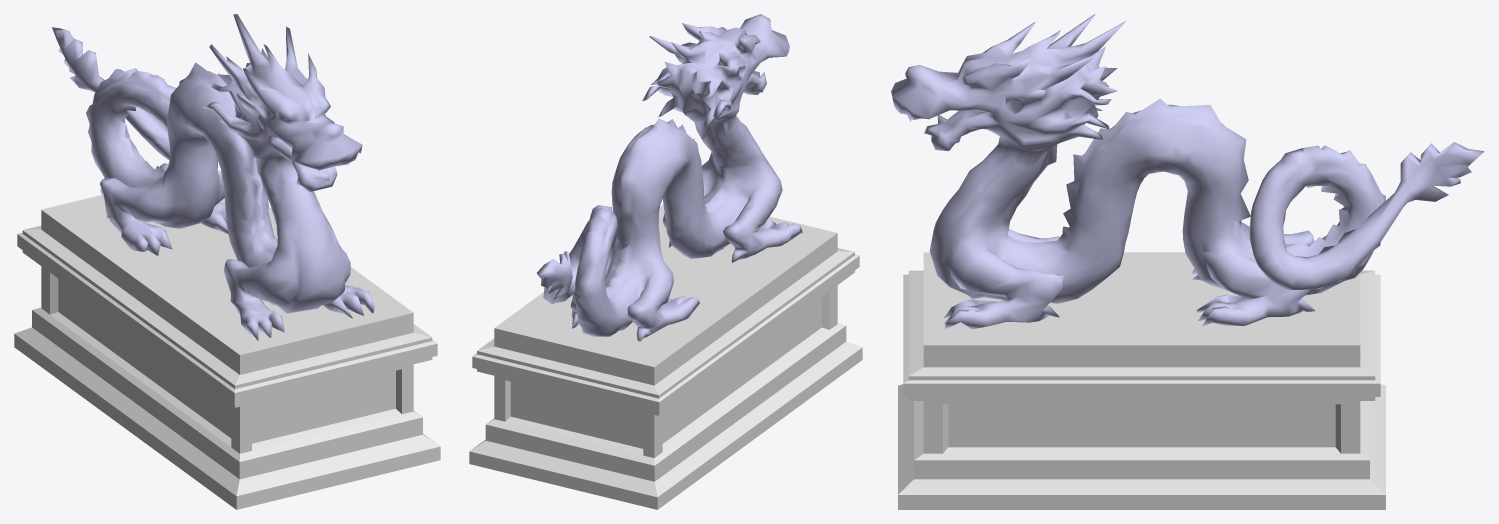
The model's file is DF_JP_Dragon_01.fbx.
3 renders of one model, left to right at view 1: azimuth 30°, elevation 25°; view 2: azimuth 150°, elevation 25°; view 3: azimuth 270°, elevation 25°, orthographic. The views are drawn at different scales.
Visible parts, largest first — view 1: DF_JP_Dragon_01_LOD0; view 2: DF_JP_Dragon_01_LOD0; view 3: DF_JP_Dragon_01_LOD0.
Part boxes in pixels (box(x1,y1,x2,y2)): DF_JP_Dragon_01_LOD0: box(14, 14, 440, 509); DF_JP_Dragon_01_LOD0: box(469, 14, 862, 509); DF_JP_Dragon_01_LOD0: box(891, 14, 1484, 509).
Size of what is drawn, in the model's own units: 97.83 by 181 by 225.
